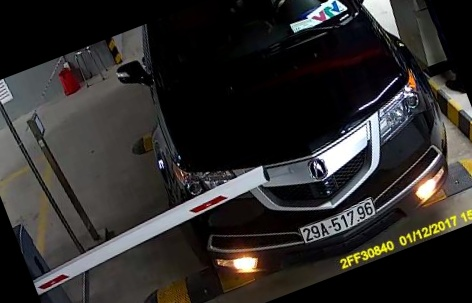plate: (294, 196, 376, 250)
